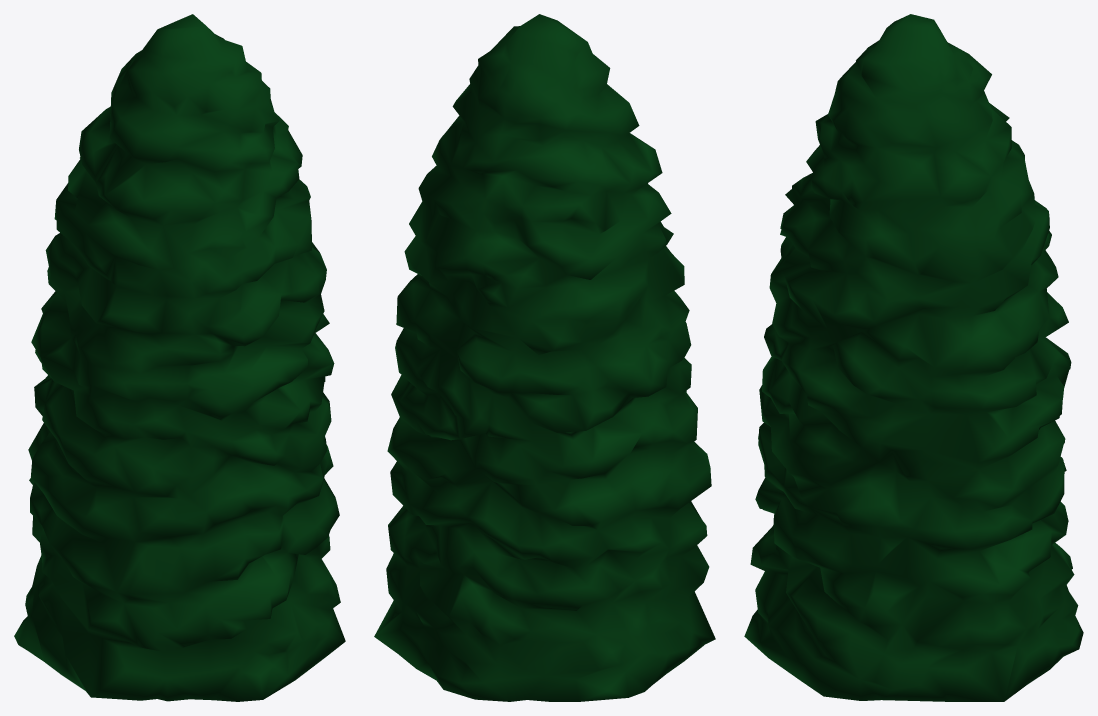
The model's file is forgotten-forest-tree-low-poly-colored.glb.
3 views of the same model, side by side, from view 1: azimuth 30°, elevation 25°; view 2: azimuth 150°, elevation 25°; view 3: azimuth 270°, elevation 25° (orthographic).
Parts seen in each view (by area): view 1: Tree10_scanned; view 2: Tree10_scanned; view 3: Tree10_scanned.
Part boxes in pixels (left/top/right/bottom): Tree10_scanned: left=14, top=14, right=345, bottom=701; Tree10_scanned: left=374, top=14, right=715, bottom=701; Tree10_scanned: left=744, top=14, right=1083, bottom=701.
Bounding box in the file's own units: 1.95 × 4.35 × 2.16.
